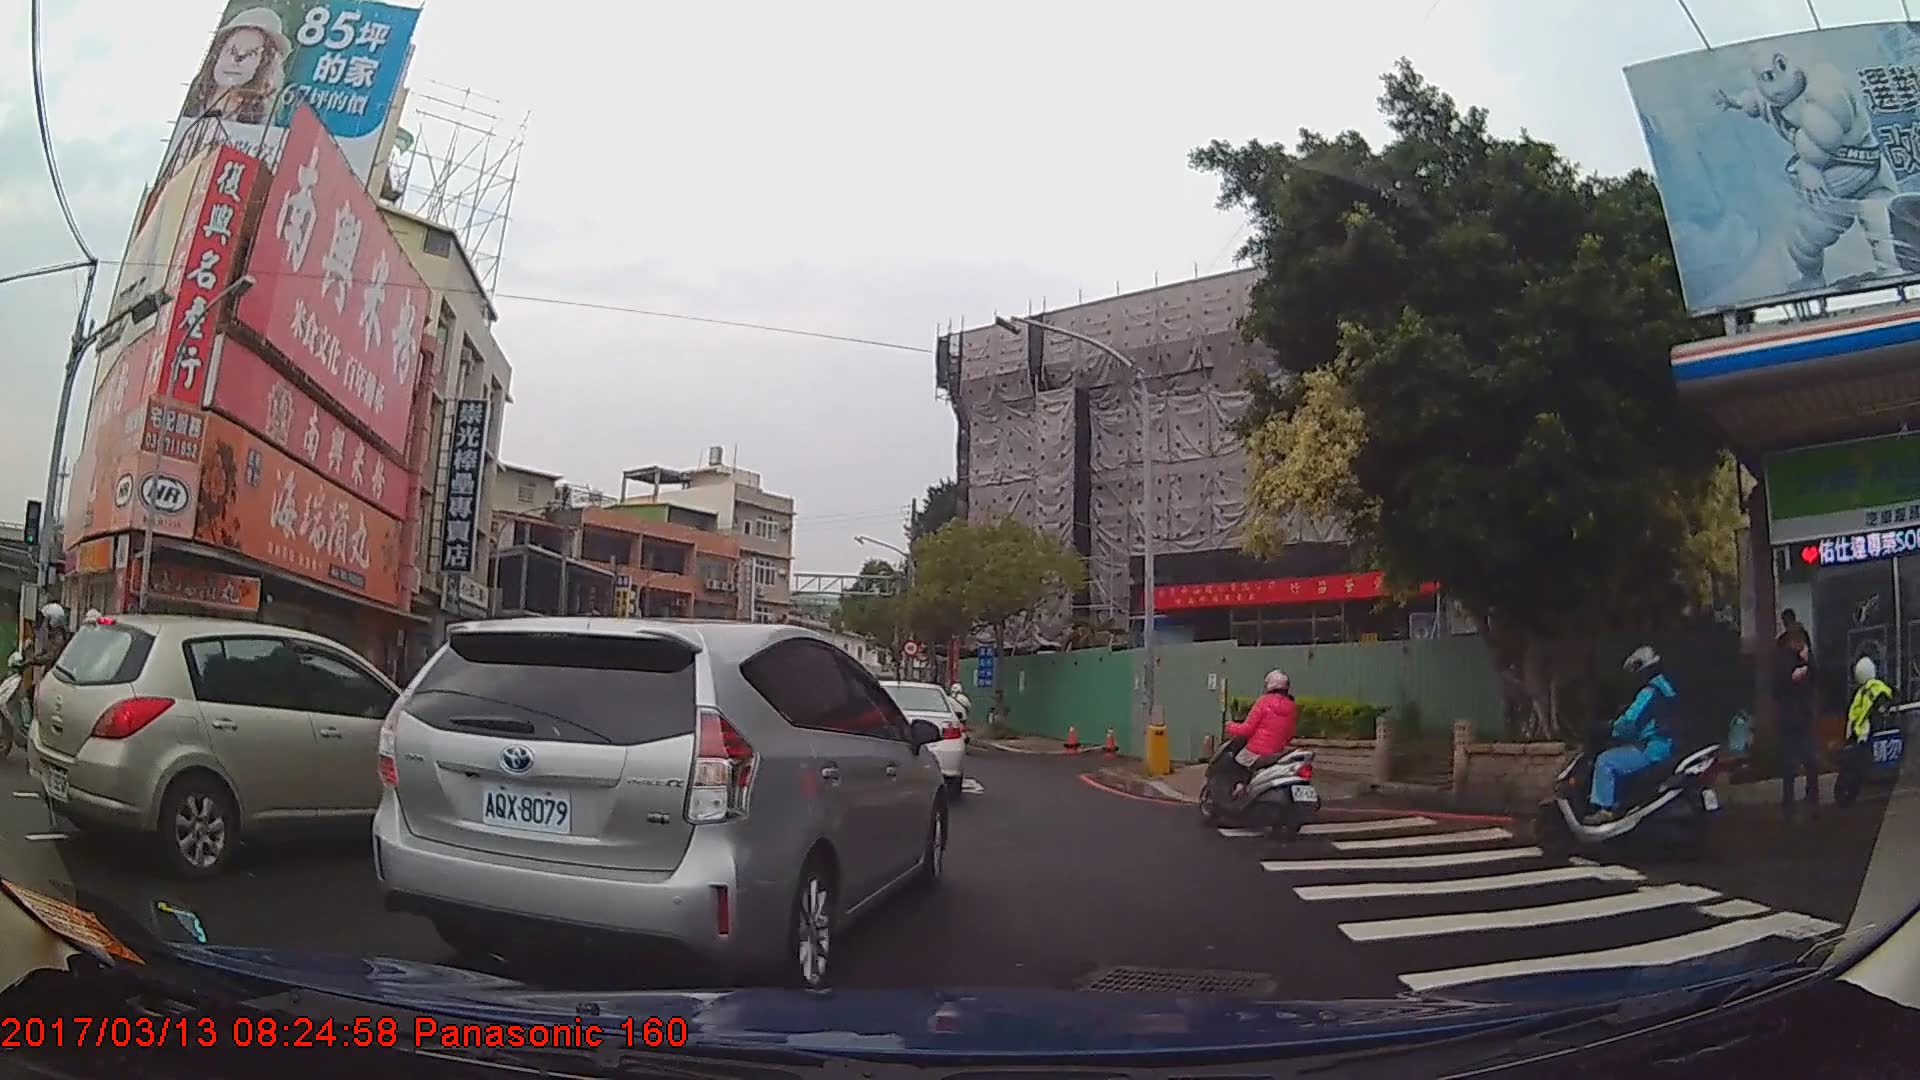pedestrian: (1769, 622, 1828, 806), (1772, 613, 1815, 746)
rider: (1532, 644, 1724, 858), (1200, 670, 1324, 841), (947, 684, 973, 753)
vehicle: (366, 608, 953, 989), (26, 606, 469, 873)
